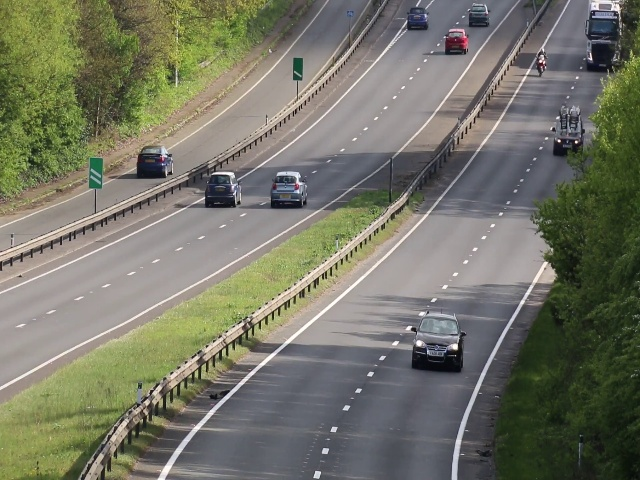car: (411, 308, 464, 371), (587, 5, 616, 76), (550, 104, 586, 156), (202, 170, 244, 208), (268, 169, 310, 206), (136, 144, 174, 178), (441, 27, 469, 54), (405, 2, 429, 30), (468, 1, 492, 29)
